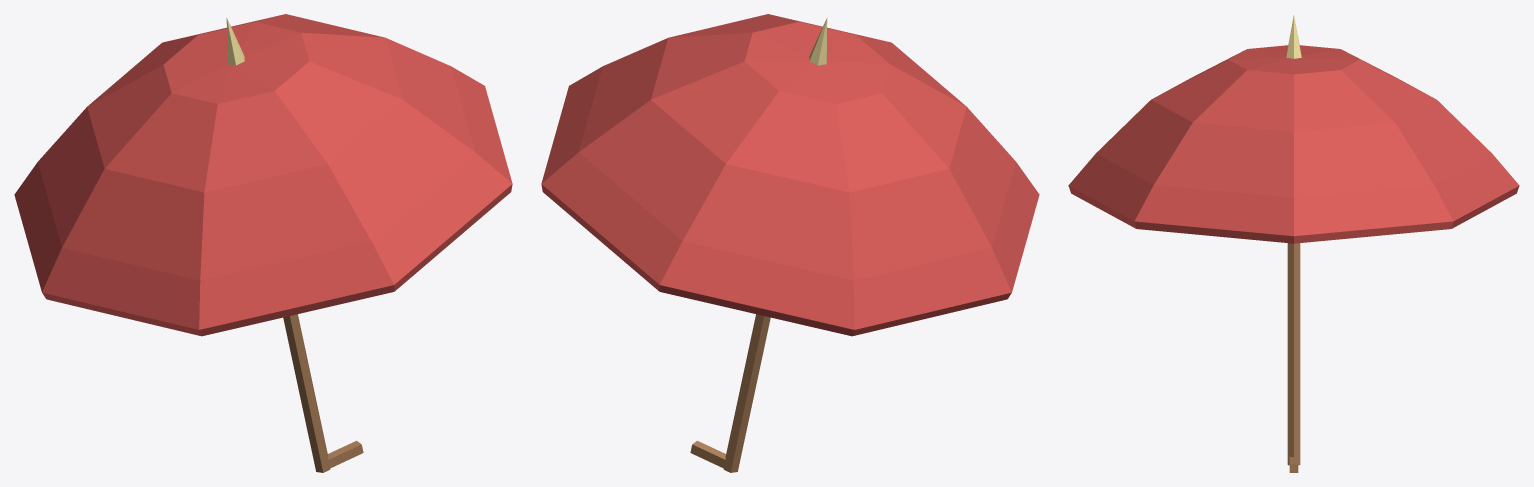
Rendered from deco_umbrella.obj.
3 renders of one model, left to right at view 1: azimuth 30°, elevation 25°; view 2: azimuth 150°, elevation 25°; view 3: azimuth 270°, elevation 25°, orthographic. The views are drawn at different scales.
Parts seen in each view (by area): view 1: deco_umbrella; view 2: deco_umbrella; view 3: deco_umbrella.
Boxes of the visible parts, x1,y1,x2,y2 form: deco_umbrella: [14, 14, 512, 472]; deco_umbrella: [541, 14, 1039, 472]; deco_umbrella: [1068, 15, 1519, 472].
Bounding box in the file's own units: 0.0802 × 0.0824 × 0.082.
Materials: 1 (1 with a texture image).
